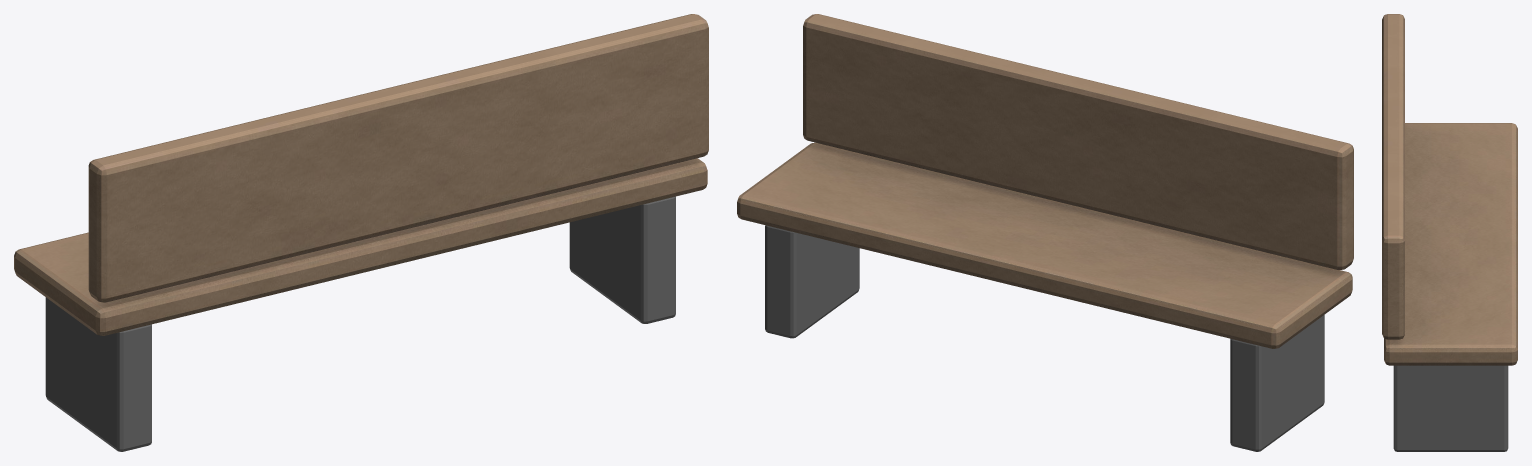
Rendered from p_bank.glb.
3 renders of one model, left to right at view 1: azimuth 30°, elevation 25°; view 2: azimuth 150°, elevation 25°; view 3: azimuth 270°, elevation 25°, orthographic. The views are drawn at different scales.
Visible parts, largest first — view 1: p_bank, p_bank_details; view 2: p_bank, p_bank_details; view 3: p_bank, p_bank_details.
Part boxes in pixels (x1,y1,x2,y2): p_bank: (14,14,708,335); p_bank_details: (45,196,675,451); p_bank: (737,14,1353,348); p_bank_details: (765,225,1324,451); p_bank: (1382,14,1517,365); p_bank_details: (1393,365,1508,451).
Bounding box in the file's own units: 0.28 × 0.13 × 0.071.
2 materials, 1 textured.
